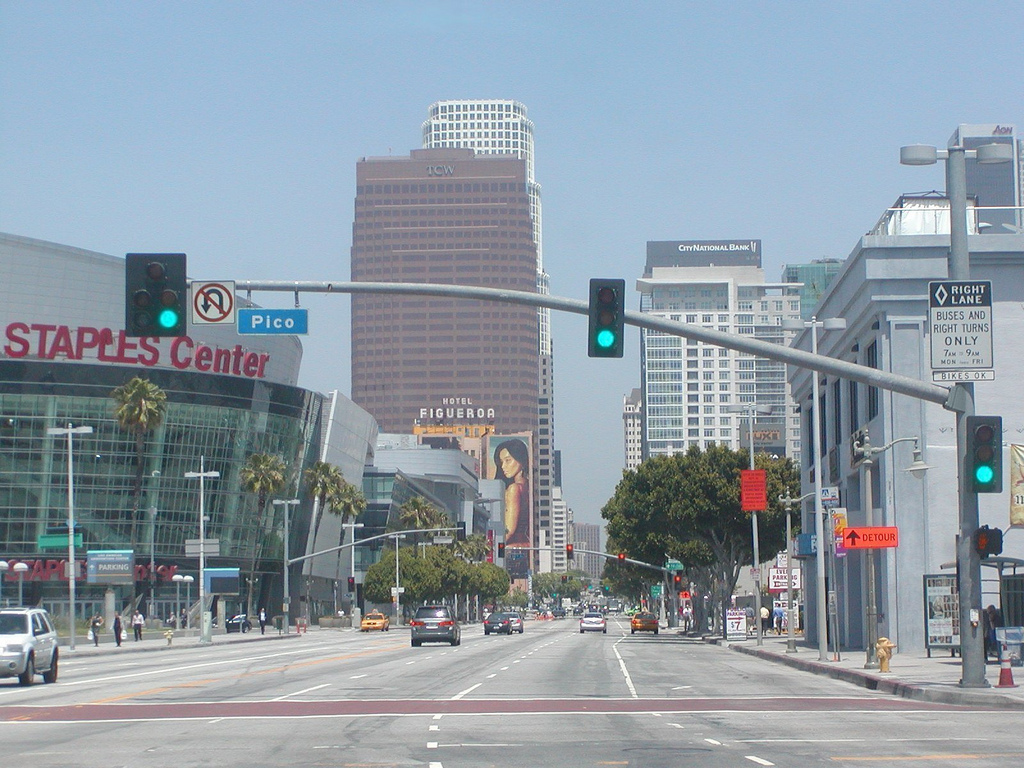traffic_light: (132, 259, 182, 332), (593, 284, 619, 352), (971, 423, 997, 487)
